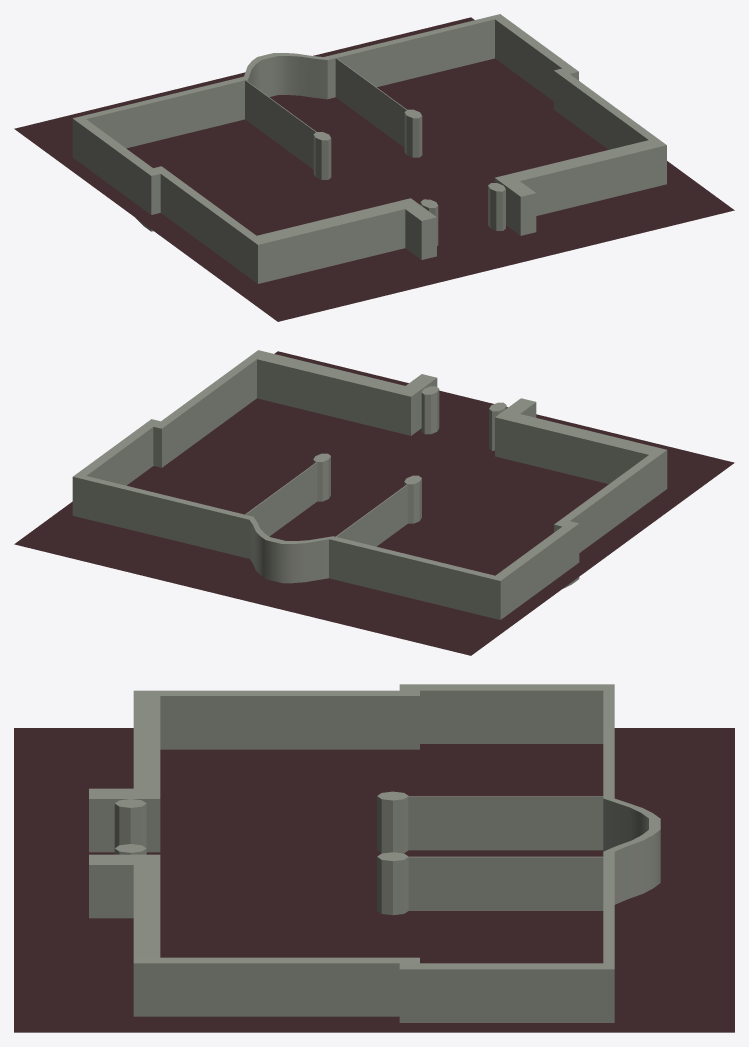
Rendered from rafa.fbx.
3 renders of one model, top to bottom at view 1: azimuth 30°, elevation 25°; view 2: azimuth 150°, elevation 25°; view 3: azimuth 270°, elevation 25°, orthographic. The views are drawn at different scales.
Parts seen in each view (by area): view 1: pPlane1, pCube5; view 2: pPlane1, pCube5; view 3: pPlane1, pCube5.
Part boxes in pixels (<box>): pPlane1: <box>14,17,734,321</box>; pCube5: <box>72,14,666,283</box>; pPlane1: <box>14,351,734,655</box>; pCube5: <box>72,350,667,619</box>; pPlane1: <box>14,728,734,1032</box>; pCube5: <box>89,684,660,1022</box>.
Bounding box in the file's own units: 5000 × 588 × 5000.
